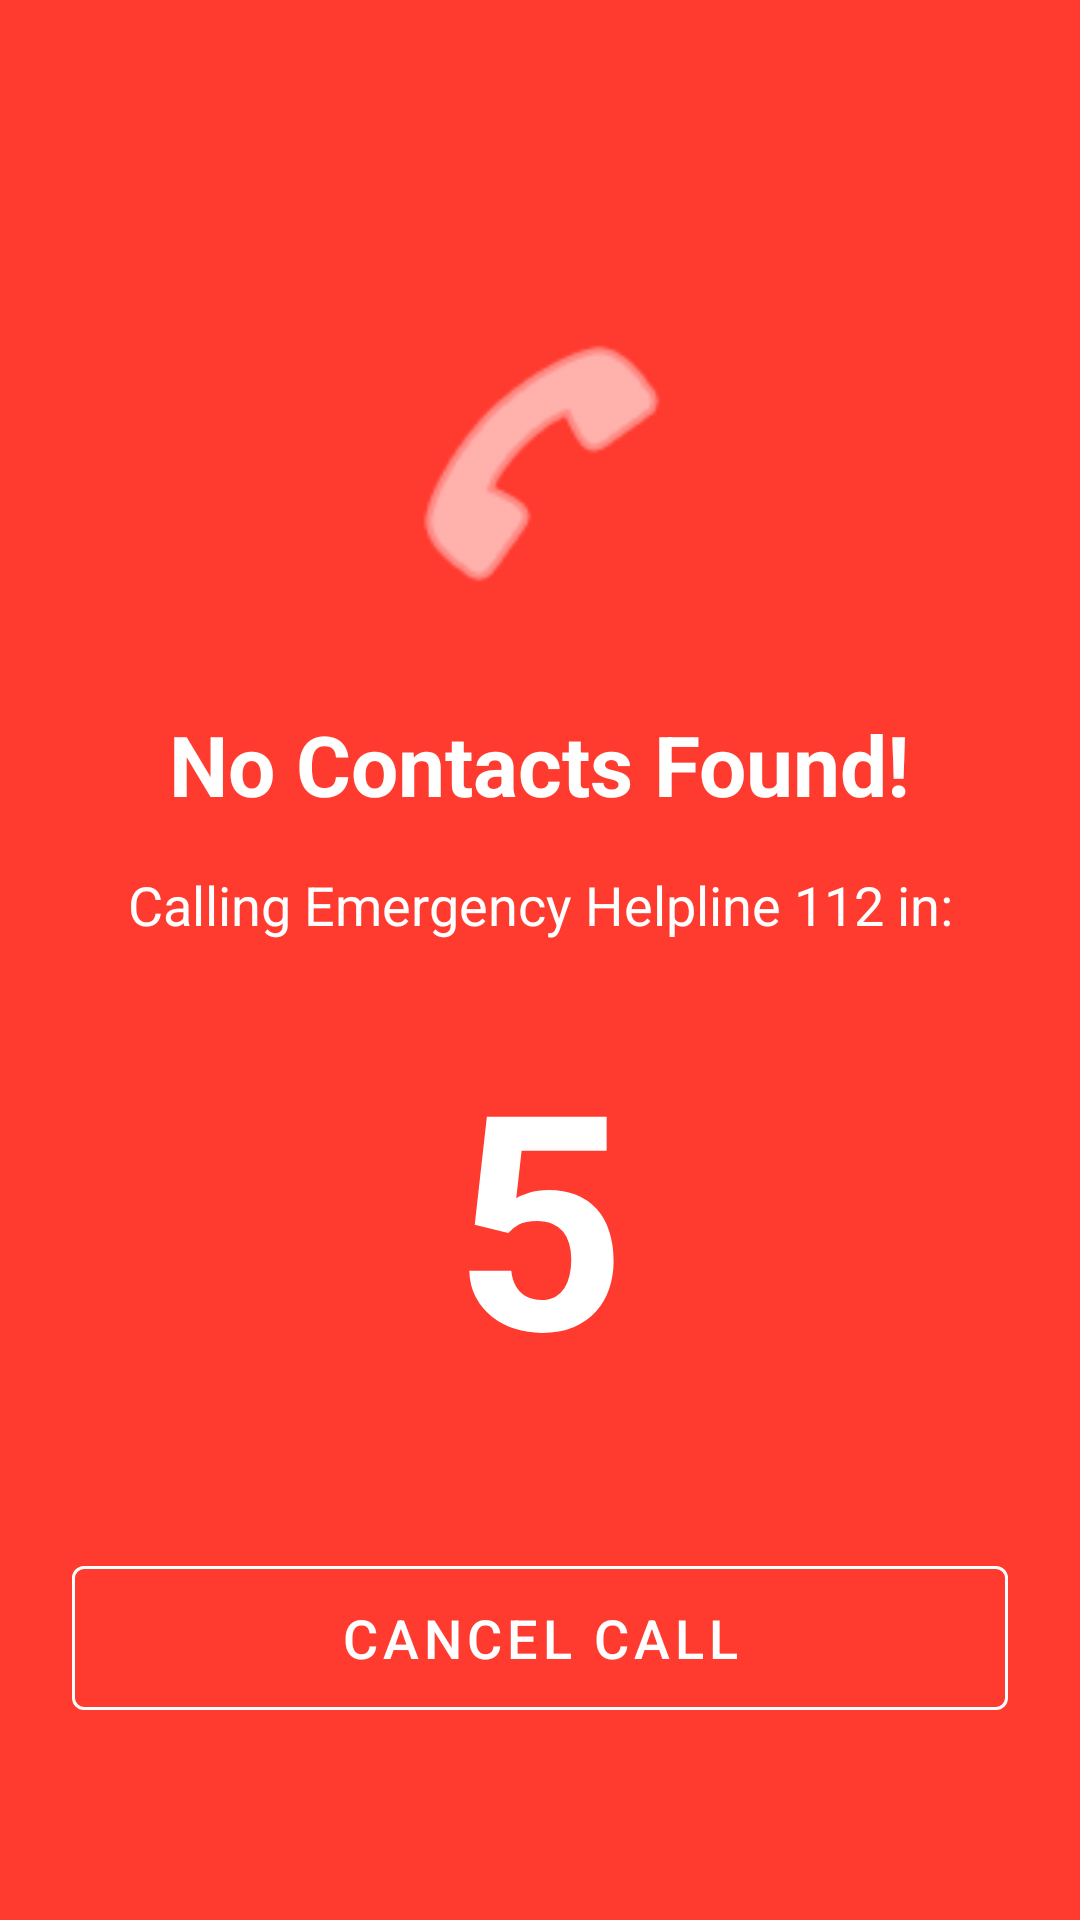

Locate icon controls on the screen. Image size 1080px×1920px, boxes as (x1, y1, x2, y2).
call: (424, 346, 659, 581)
